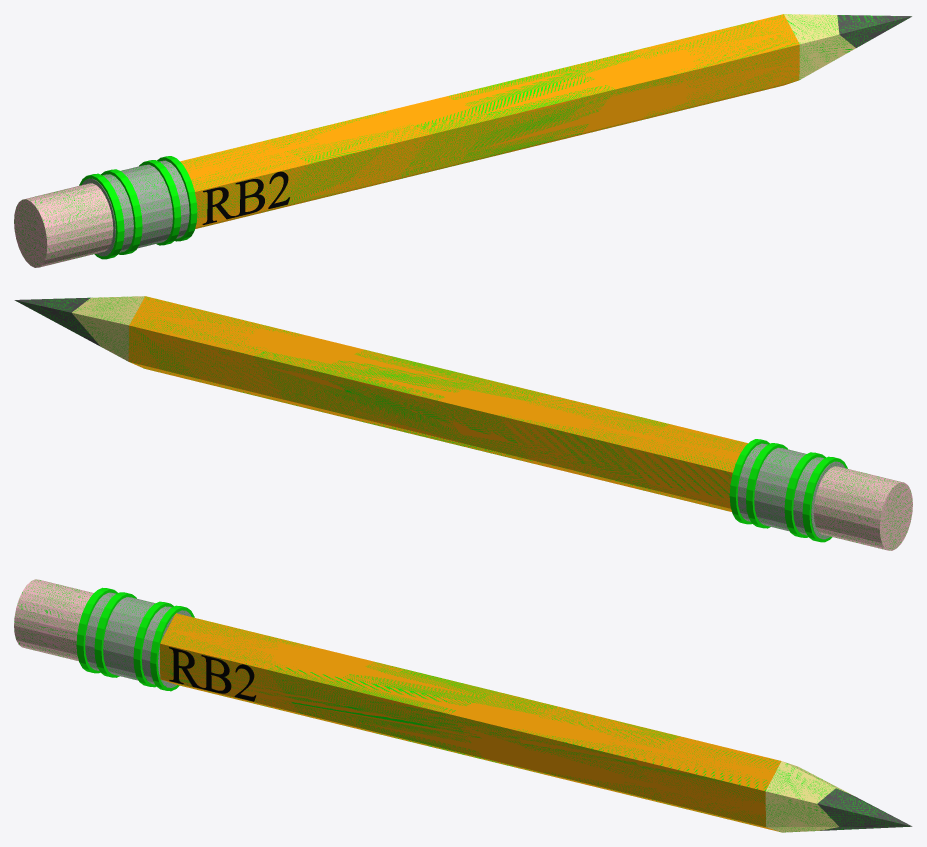
3 views of the same model, one above another, from view 1: azimuth 30°, elevation 25°; view 2: azimuth 150°, elevation 25°; view 3: azimuth 330°, elevation 25° (orthographic).
Visible parts, largest first — view 1: pencil; view 2: pencil; view 3: pencil.
Boxes of the visible parts, x1=… form: pencil: x1=14, y1=14, x2=911, y2=267; pencil: x1=14, y1=296, x2=912, y2=550; pencil: x1=14, y1=579, x2=912, y2=832.
Size of the model in its own units: 221 by 18.9 by 17.79.
